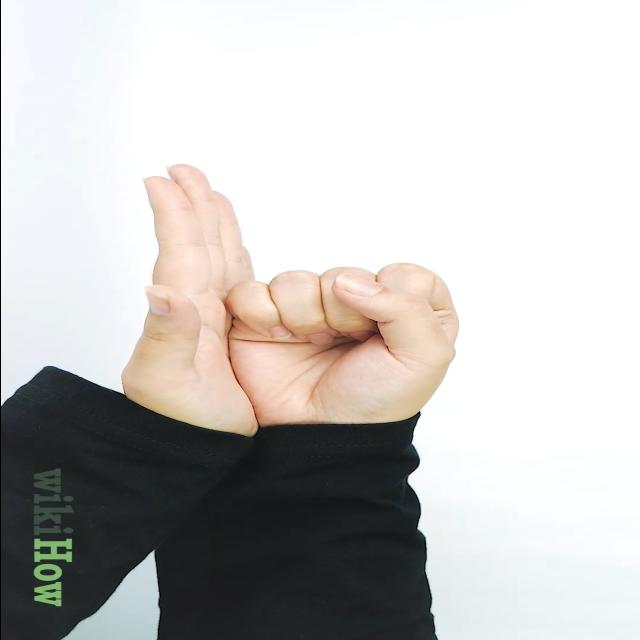Rock: (226, 262, 462, 422)
